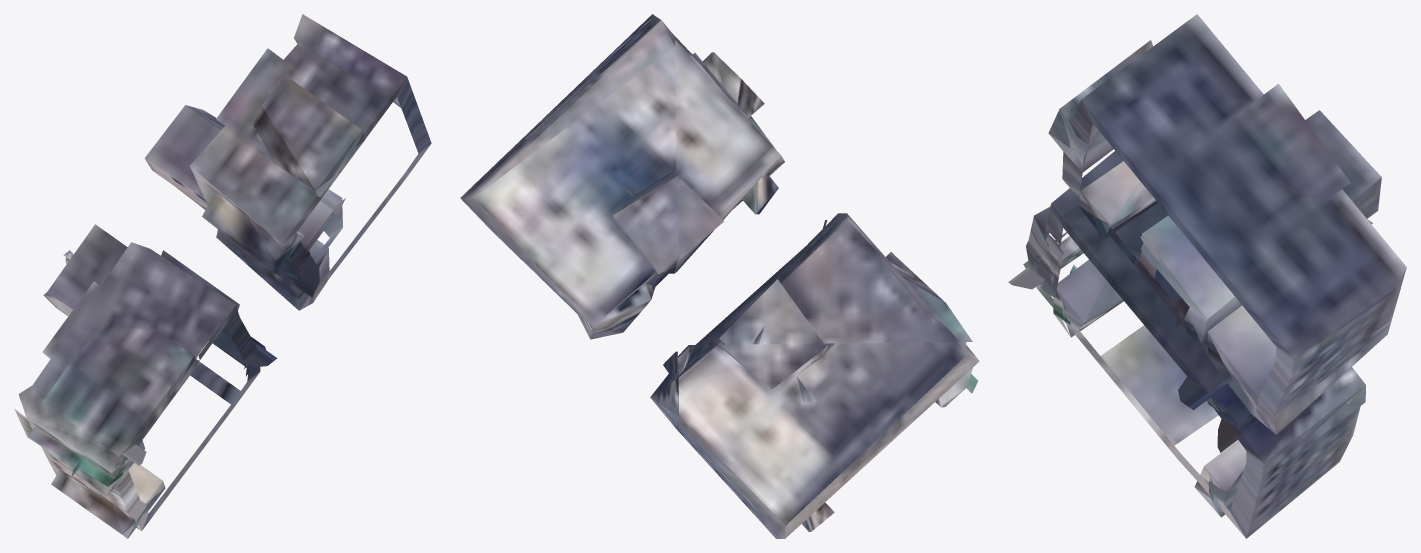
3 views of the same model, side by side, from view 1: azimuth 30°, elevation 25°; view 2: azimuth 150°, elevation 25°; view 3: azimuth 270°, elevation 25° (orthographic). The views are drawn at different scales.
Size of the model in its own units: 49.1 by 49.2 by 29.2.
1 material, 1 textured.
